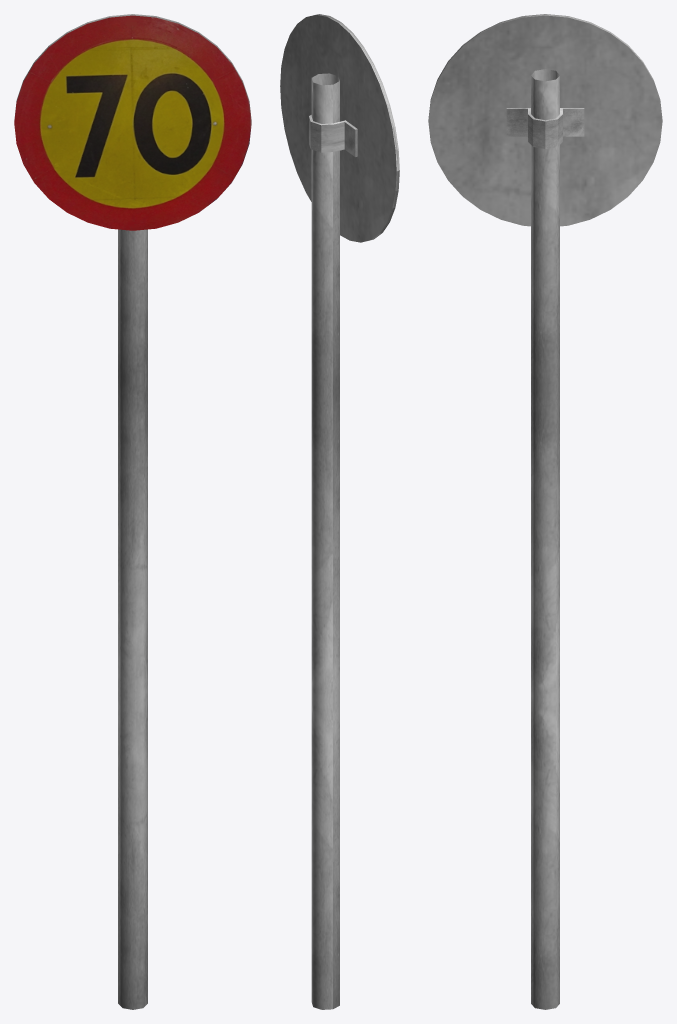
The model's file is Skylt2.fbx.
3 views of the same model, side by side, from view 1: azimuth 90°, elevation 25°; view 2: azimuth 210°, elevation 25°; view 3: azimuth 270°, elevation 25° (orthographic).
Parts seen in each view (by area): view 1: Cylinder, Stång; view 2: Stång, Cylinder, Skylt; view 3: Cylinder, Stång, Skylt.
Boxes of the visible parts, bbox=[...] form: Cylinder: bbox=[14, 14, 251, 230]; Stång: bbox=[118, 229, 147, 1009]; Stång: bbox=[311, 73, 339, 1009]; Cylinder: bbox=[280, 14, 399, 242]; Skylt: bbox=[309, 115, 357, 157]; Cylinder: bbox=[428, 14, 662, 226]; Stång: bbox=[531, 69, 559, 1009]; Skylt: bbox=[506, 108, 584, 148].
Size of the model in its own units: 12.24 by 370 by 80.
